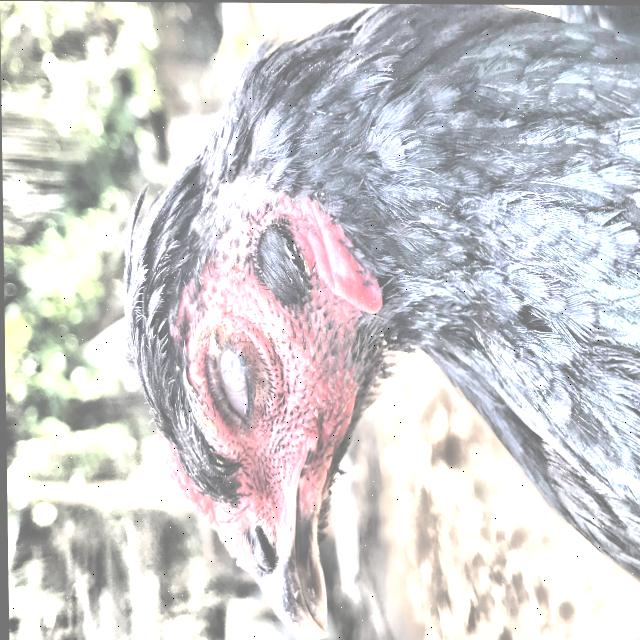Coryza: (64, 0, 640, 640)
